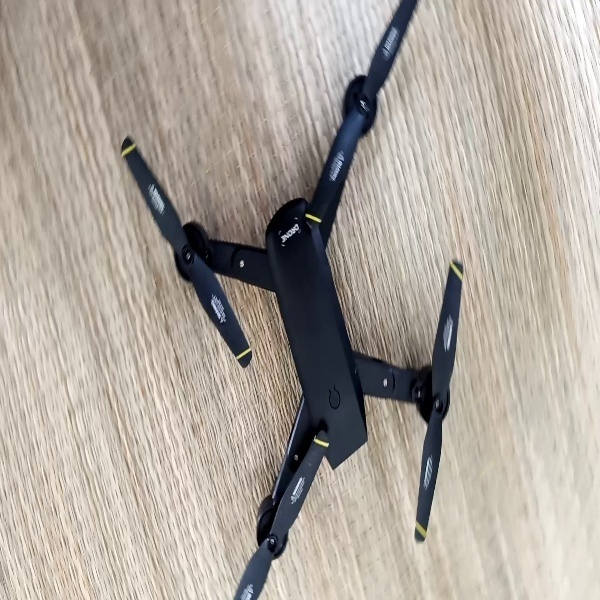drone: (115, 5, 470, 594)
